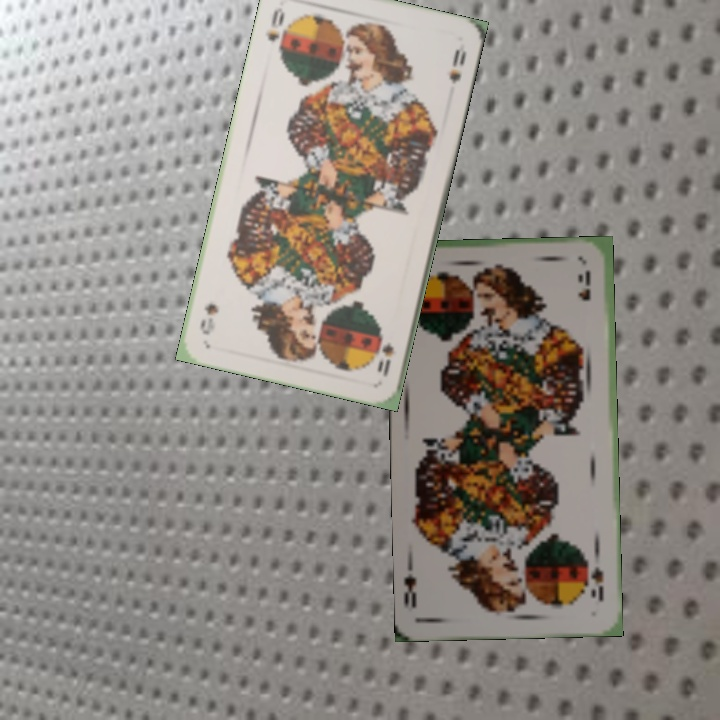SO: (262, 3, 287, 55), (373, 330, 397, 379), (586, 563, 607, 603)
